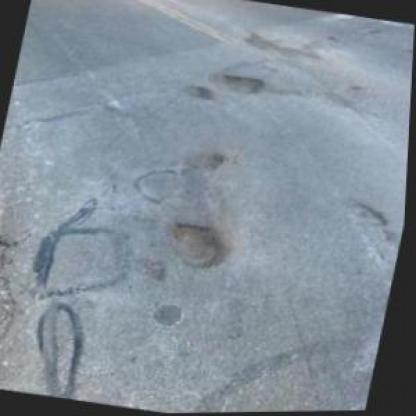pothole: (0, 230, 33, 388), (161, 215, 233, 272), (208, 65, 268, 99), (349, 198, 394, 233), (185, 80, 219, 102)
